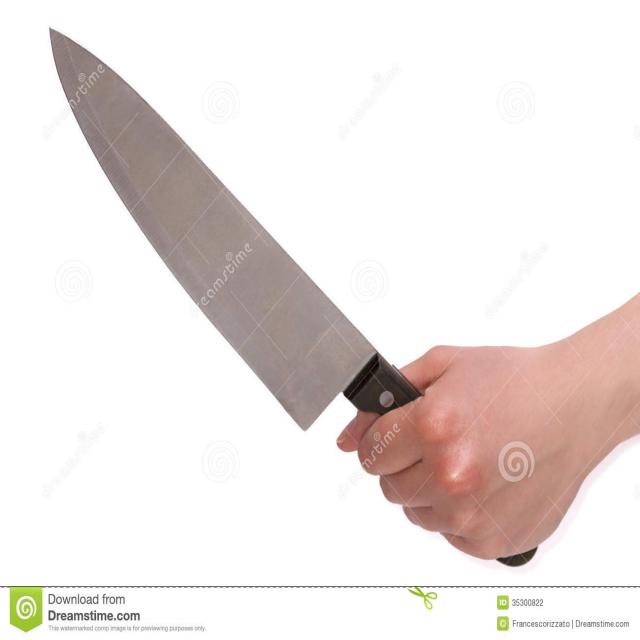knife: (48, 26, 537, 569)
